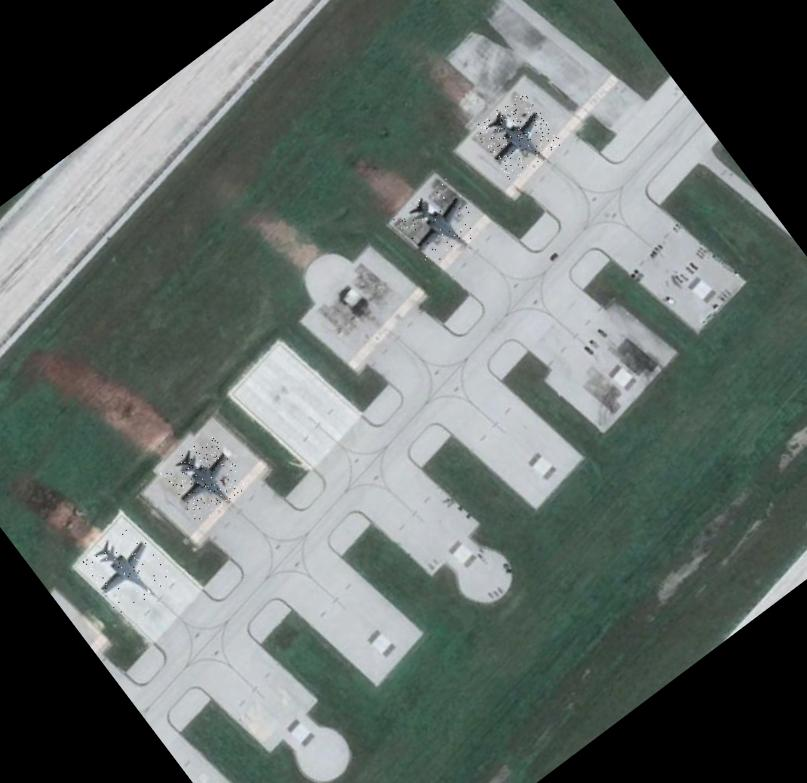A10: (80, 522, 174, 616), (392, 177, 486, 270), (471, 89, 563, 181), (159, 432, 250, 524)
